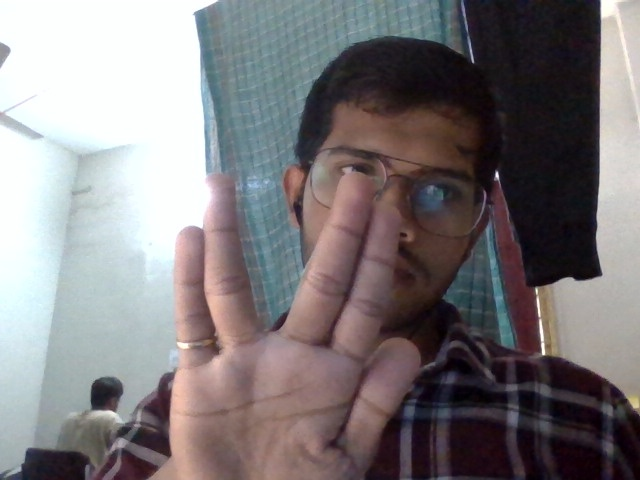LiveLong: (172, 166, 427, 480)
